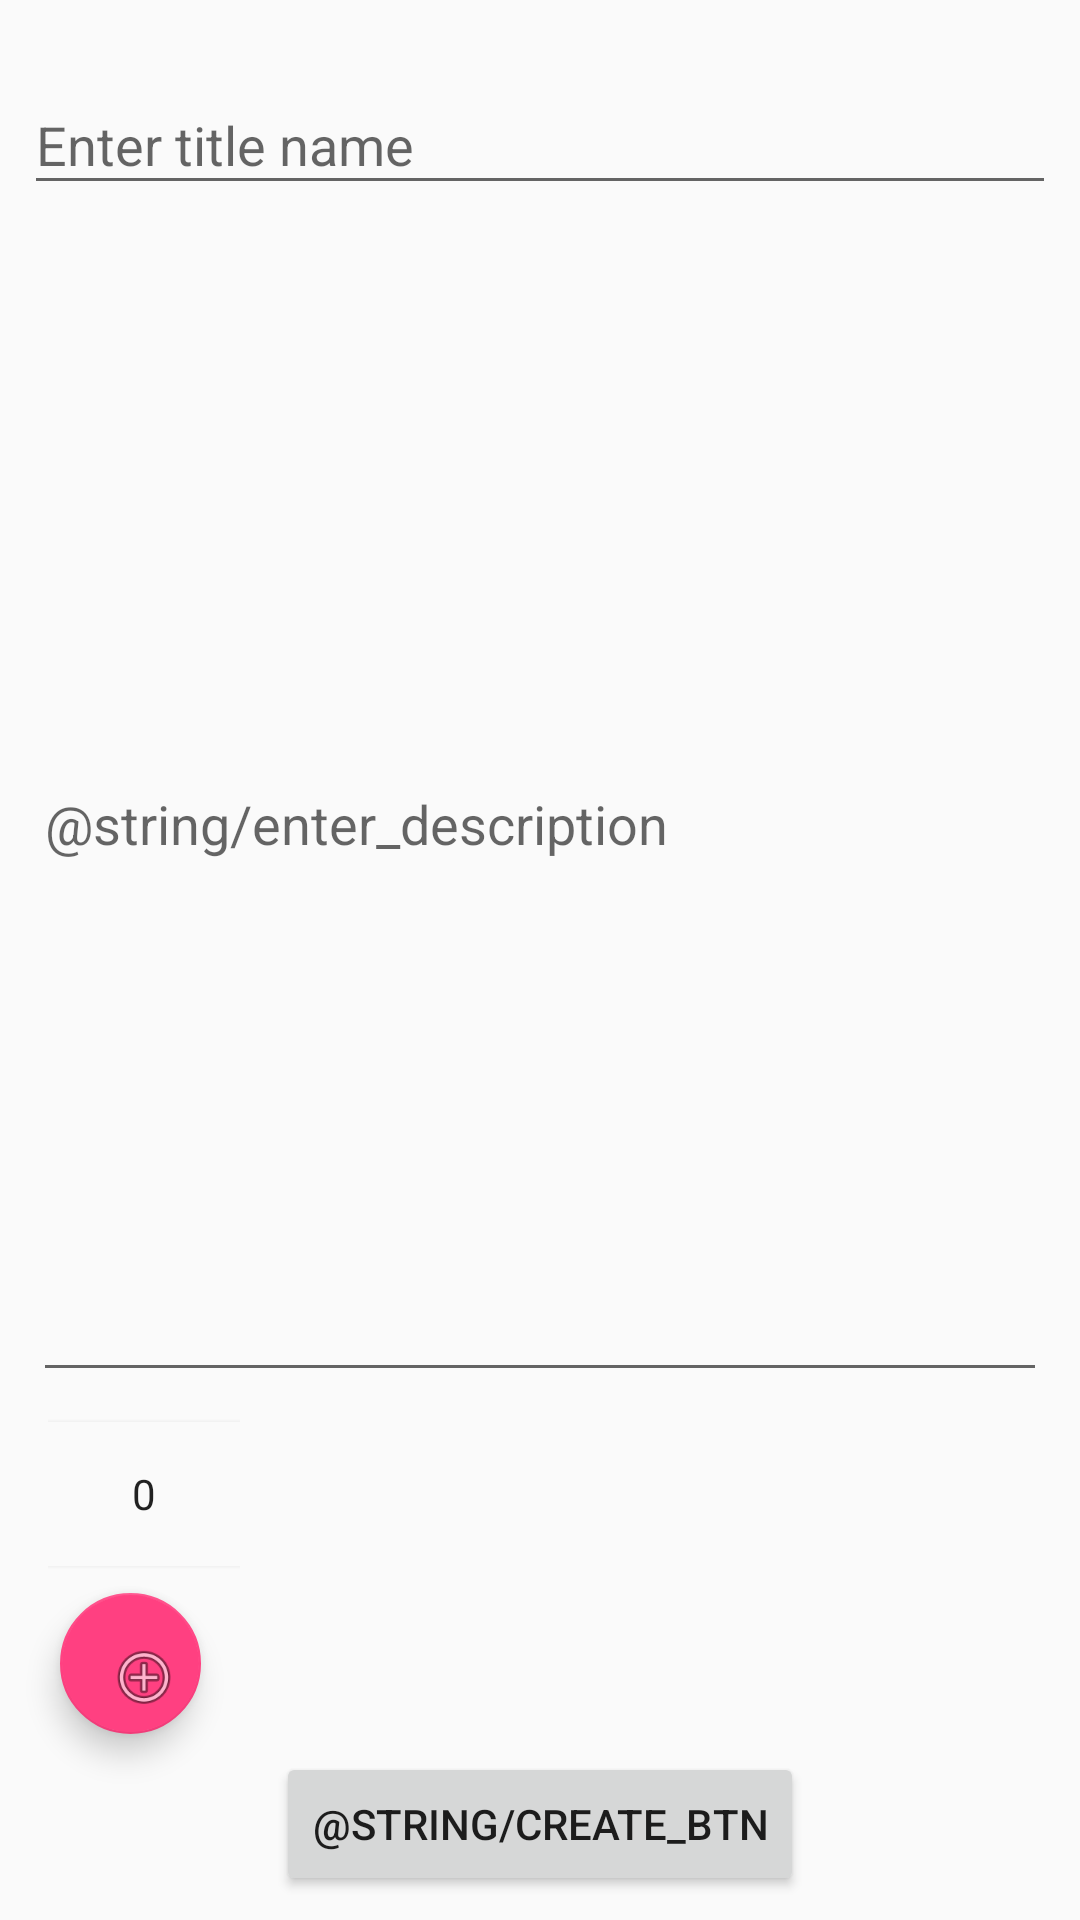

Where icons sit on this 1080*1920 app screen, as bbox=(x1, y1, x2, y2):
add: bbox=(60, 1593, 201, 1734)
